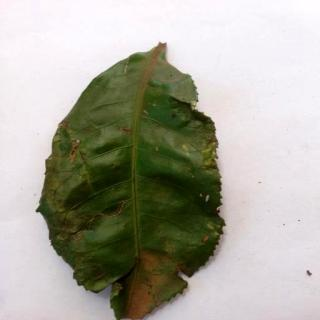Algal Leaf: (41, 42, 226, 320)
